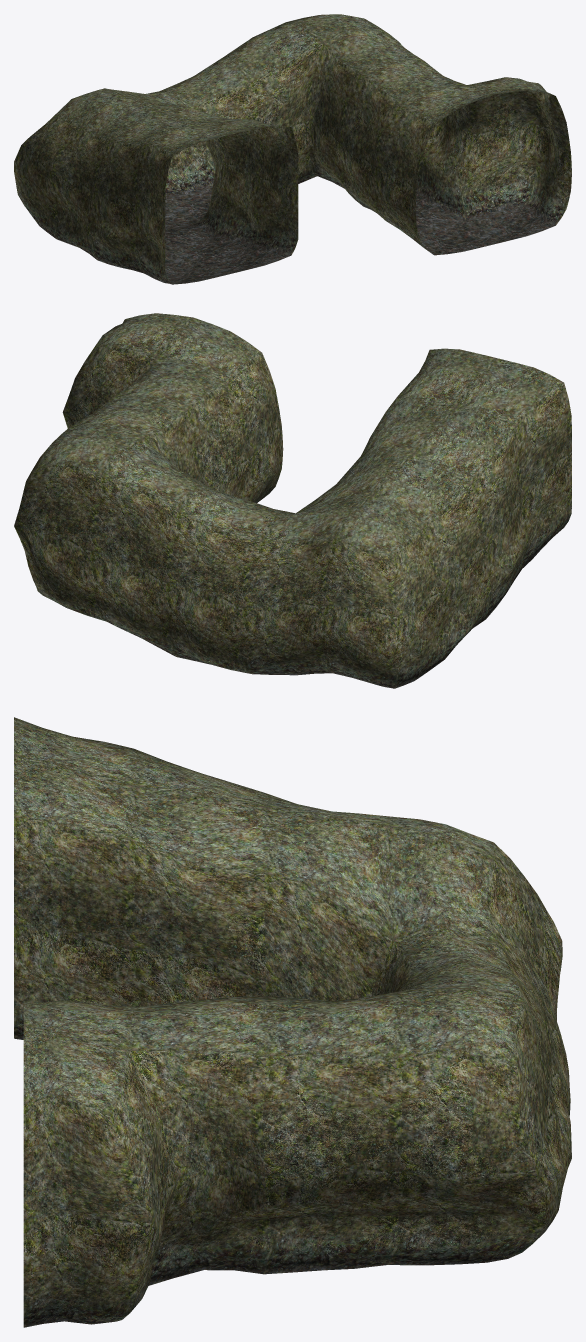
File: thm_all_cave_s03_damprock_r12_r12.fbx
3 views of the same model, one above another, from view 1: azimuth 30°, elevation 25°; view 2: azimuth 150°, elevation 25°; view 3: azimuth 270°, elevation 25° (orthographic). The views are drawn at different scales.
Visible parts, largest first — view 1: mesh_node; view 2: mesh_node; view 3: mesh_node.
Part boxes in pixels (x1,y1,x2,y2): mesh_node: (14, 14, 571, 284); mesh_node: (14, 313, 571, 688); mesh_node: (14, 717, 571, 1327).
Size of the model in its own units: 50.31 by 22.47 by 33.73.
